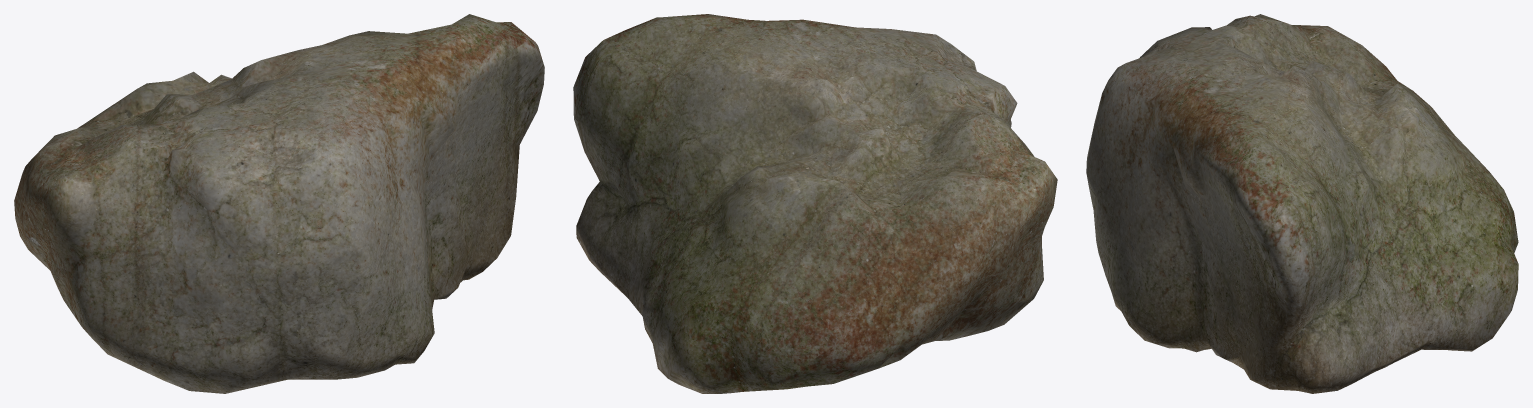
File: wd2nacu_tier_2.gltf
3 views of the same model, side by side, from view 1: azimuth 30°, elevation 25°; view 2: azimuth 150°, elevation 25°; view 3: azimuth 270°, elevation 25° (orthographic). The views are drawn at different scales.
Parts seen in each view (by area): view 1: wd2nacu_LOD0_TIER2_000; view 2: wd2nacu_LOD0_TIER2_000; view 3: wd2nacu_LOD0_TIER2_000.
Part boxes in pixels (x1,y1,x2,y2): wd2nacu_LOD0_TIER2_000: (14,14,544,393); wd2nacu_LOD0_TIER2_000: (573,14,1057,393); wd2nacu_LOD0_TIER2_000: (1086,14,1518,393).
Size of the model in its own units: 0.2544 by 0.138 by 0.2028.
1 material, 1 textured.
